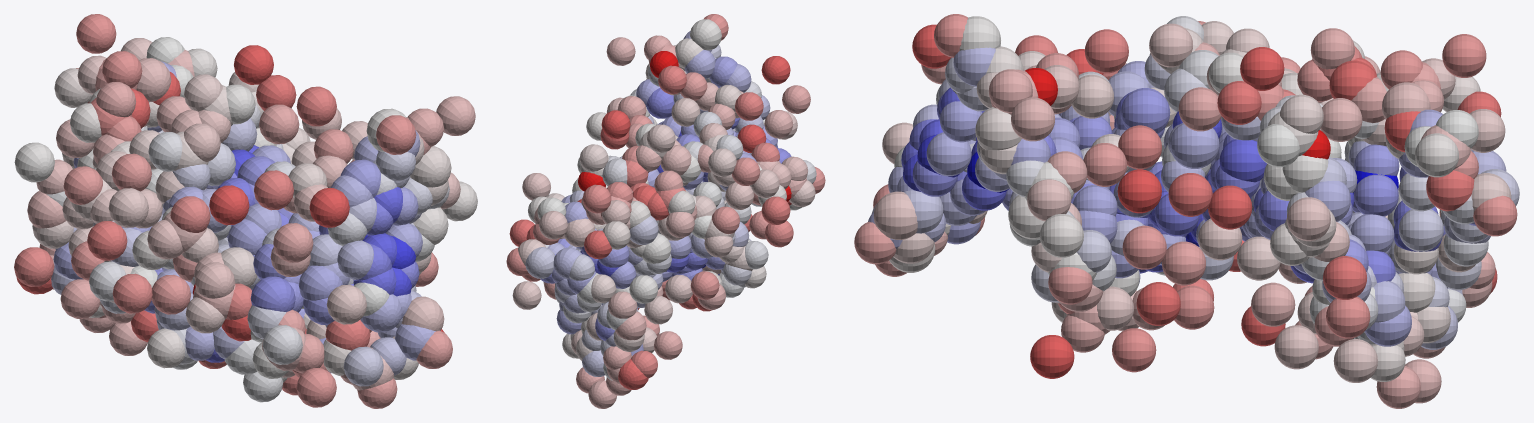
File: 1bna__spheres__b-factor.glb
3 views of the same model, side by side, from view 1: azimuth 30°, elevation 25°; view 2: azimuth 150°, elevation 25°; view 3: azimuth 270°, elevation 25° (orthographic). The views are drawn at different scales.
Parts seen in each view (by area): view 1: Renderer Node; view 2: Renderer Node; view 3: Renderer Node.
Boxes of the visible parts, x1,y1,x2,y2 form: Renderer Node: [14, 14, 477, 408]; Renderer Node: [506, 14, 825, 408]; Renderer Node: [854, 14, 1519, 408].
Bounding box in the file's own units: 28.9 × 31.47 × 45.68.
